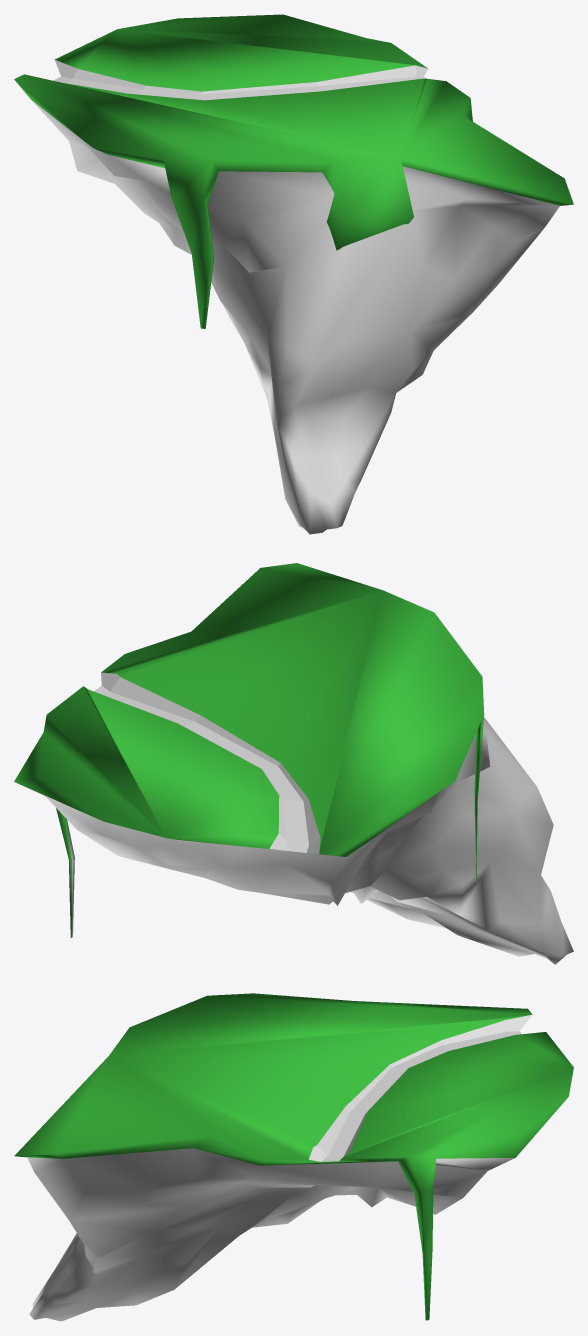
Rendered from Ile 3.fbx.
3 renders of one model, top to bottom at view 1: azimuth 30°, elevation 25°; view 2: azimuth 150°, elevation 25°; view 3: azimuth 270°, elevation 25°, orthographic. The views are drawn at different scales.
Visible parts, largest first — view 1: Cube; view 2: Cube; view 3: Cube.
Boxes of the visible parts, x1,y1,x2,y2 form: Cube: (14, 14, 573, 534); Cube: (14, 563, 573, 964); Cube: (14, 993, 573, 1321).
Size of the model in its own units: 1183 by 1082 by 1750.
